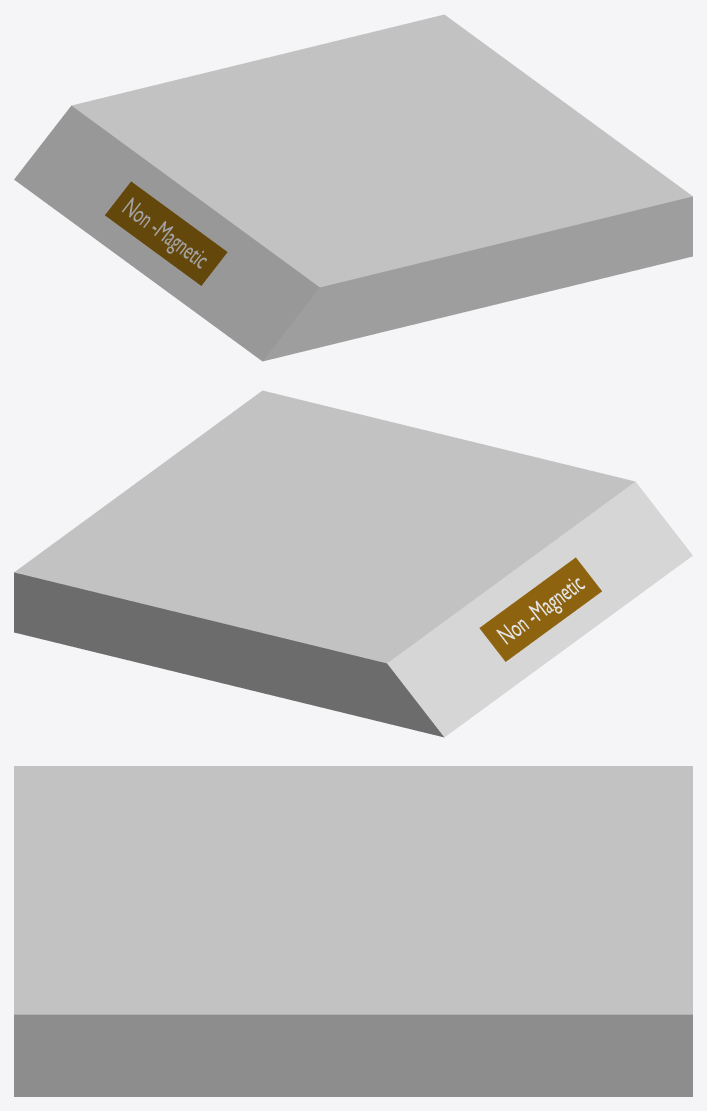
Rendered from nonMagnetic.fbx.
3 renders of one model, top to bottom at view 1: azimuth 30°, elevation 25°; view 2: azimuth 150°, elevation 25°; view 3: azimuth 270°, elevation 25°, orthographic. The views are drawn at different scales.
Parts seen in each view (by area): view 1: Cube, Text; view 2: Cube, Text; view 3: Cube.
Boxes of the visible parts, x1,y1,x2,y2 form: Cube: [14, 14, 692, 361]; Text: [122, 197, 206, 268]; Cube: [14, 390, 692, 737]; Text: [496, 578, 585, 644]; Cube: [14, 766, 692, 1096].
Size of the model in its own units: 150 by 20 by 150.
